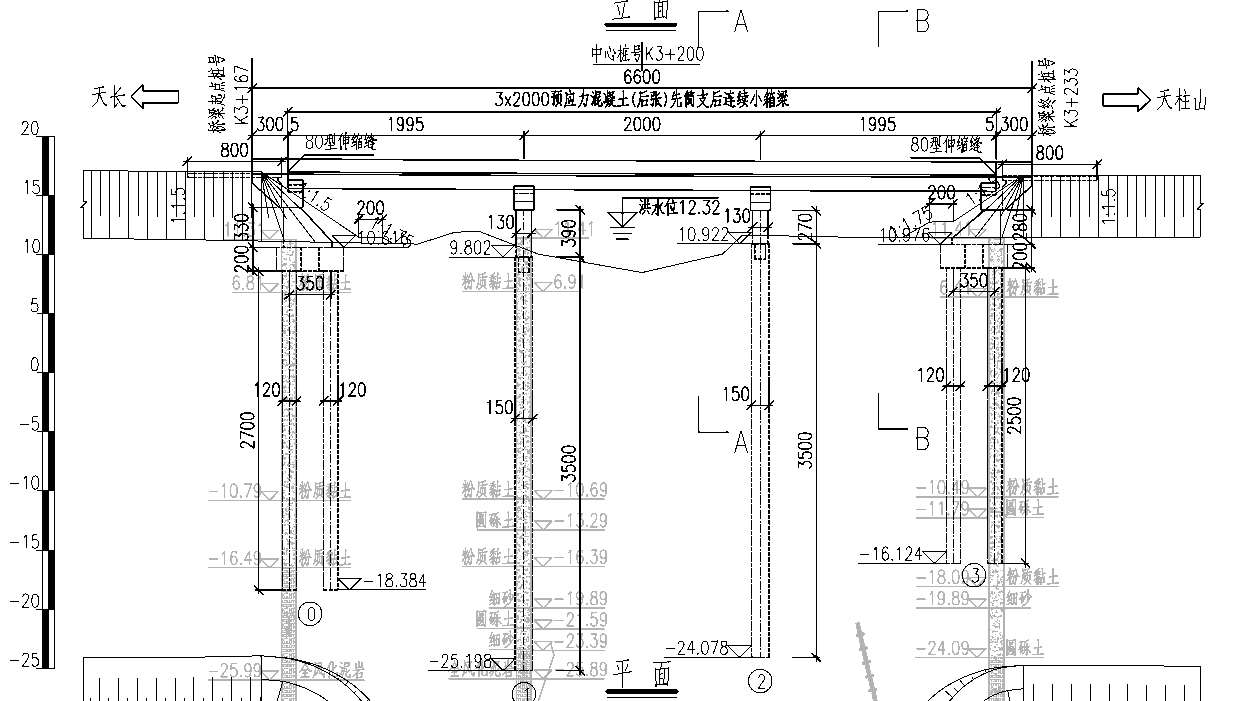C: (432, 172, 566, 700), (710, 175, 793, 701), (907, 214, 990, 598)
